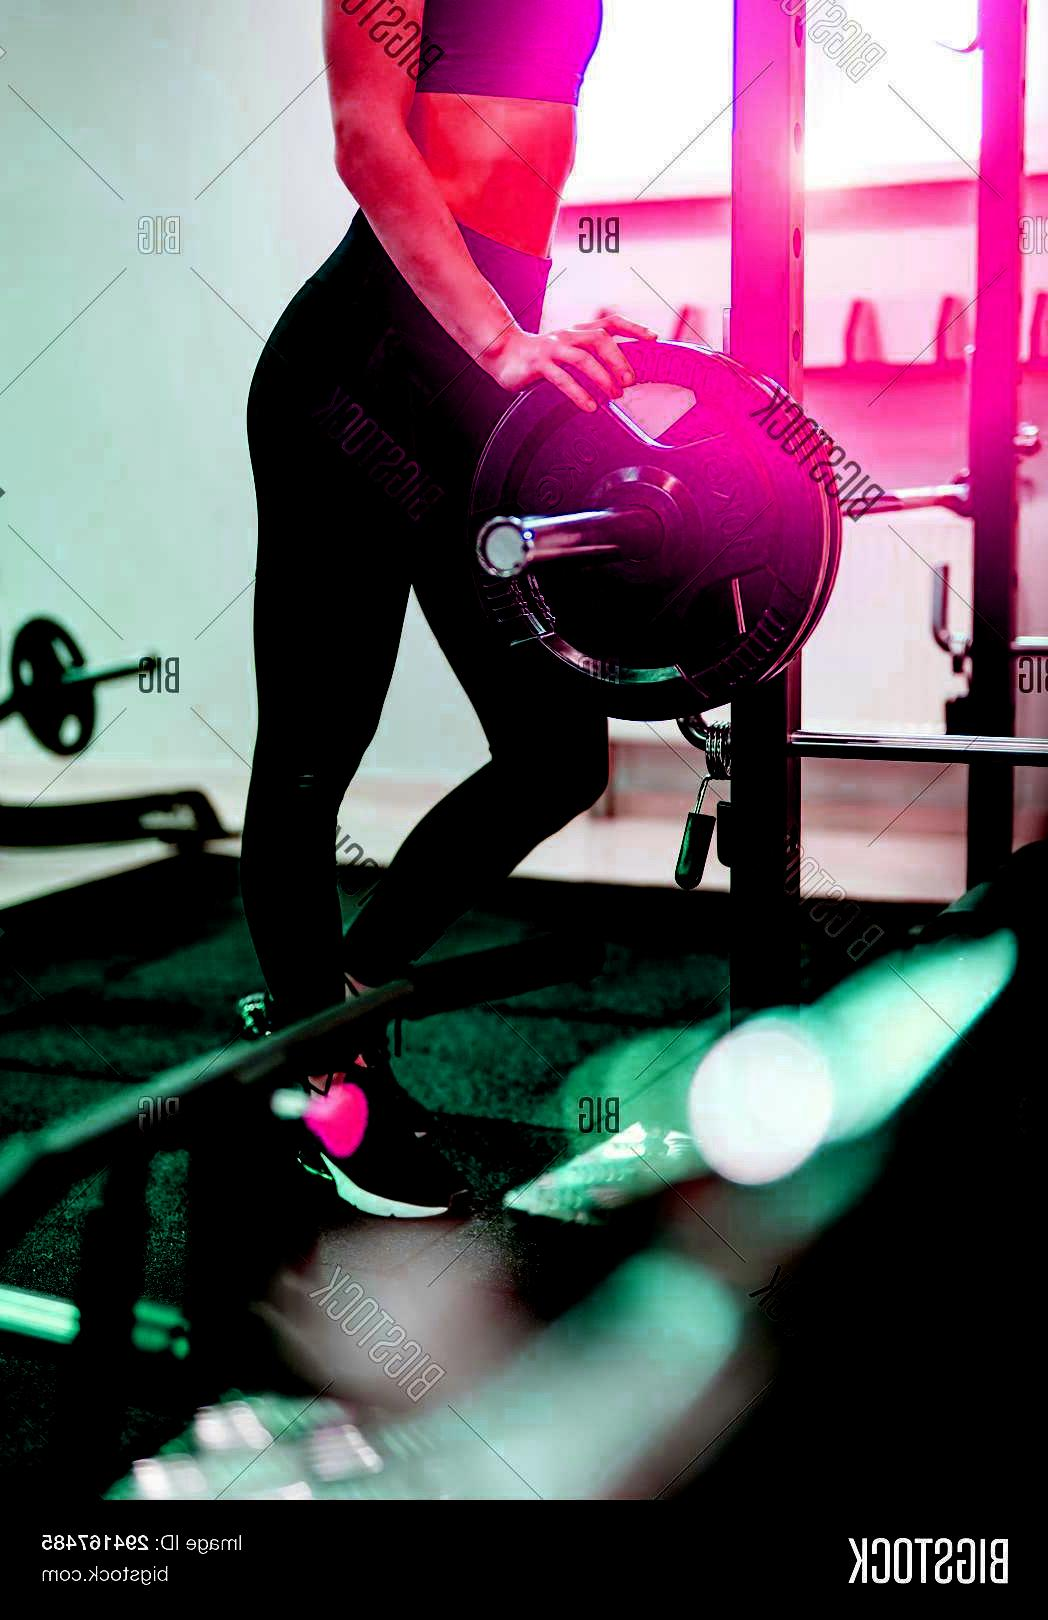Barbell: (453, 501, 533, 597)
